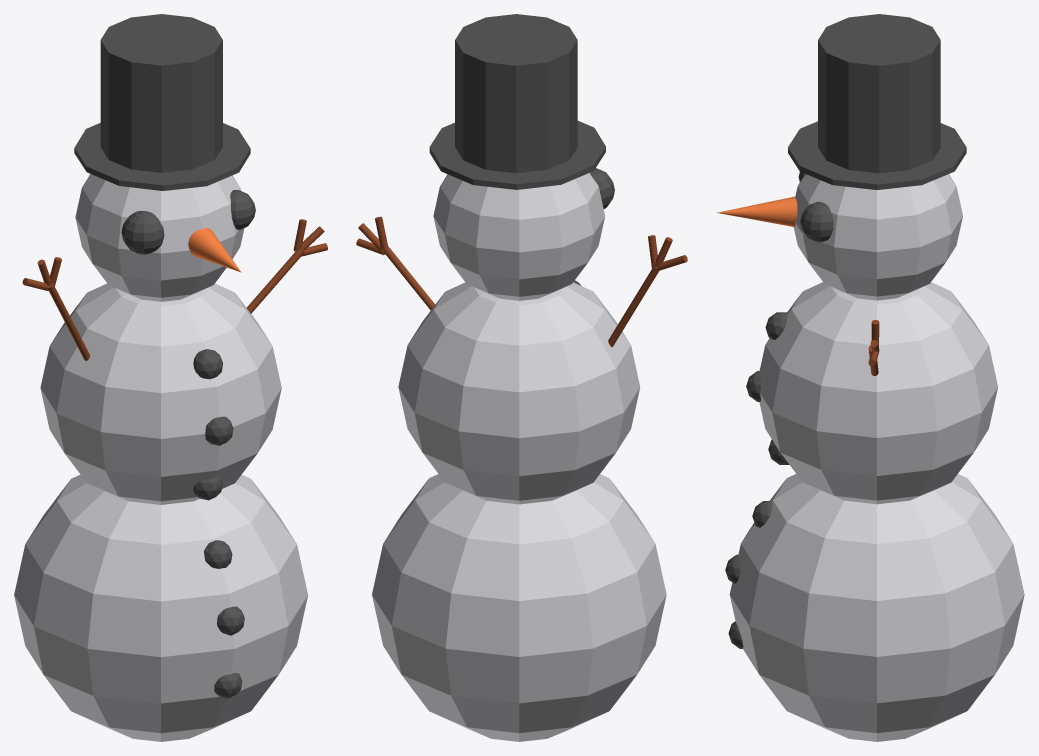
Rendered from snemand3_unity.fbx.
3 views of the same model, side by side, from view 1: azimuth 30°, elevation 25°; view 2: azimuth 150°, elevation 25°; view 3: azimuth 270°, elevation 25° (orthographic).
Parts seen in each view (by area): view 1: Cylinder.005; view 2: Cylinder.005; view 3: Cylinder.005.
Boxes of the visible parts, <box> form: Cylinder.005: <box>14,14,327,741</box>; Cylinder.005: <box>356,14,687,741</box>; Cylinder.005: <box>716,14,1024,741</box>.
Size of the model in its own units: 248 by 516 by 209.
